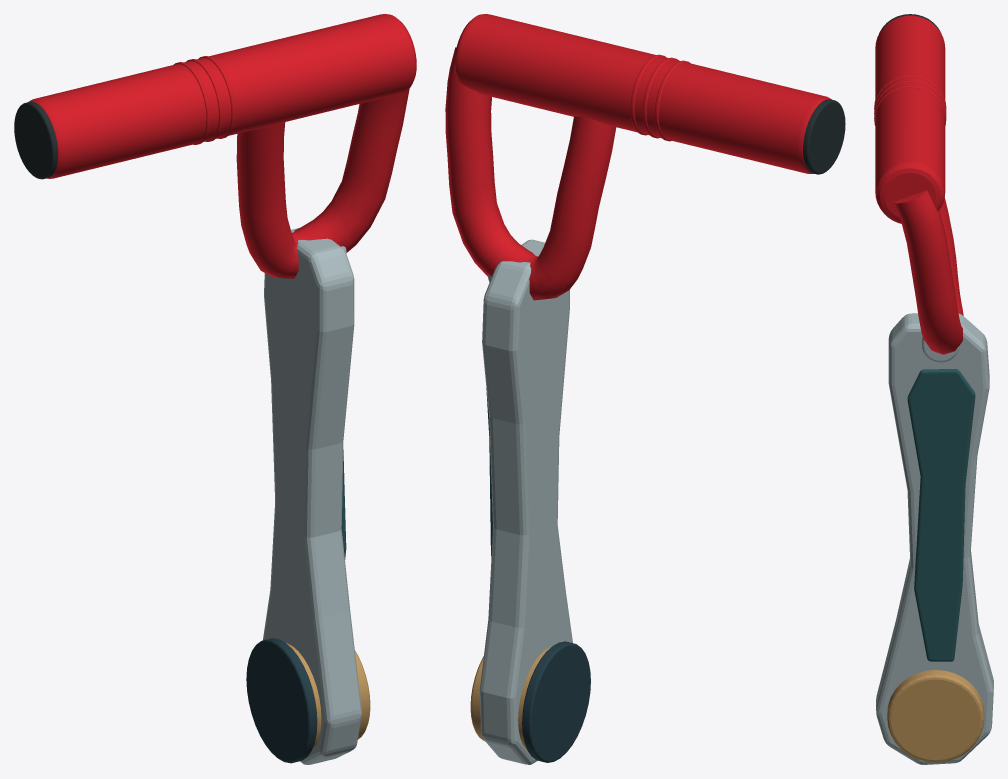
File: SM_Mk2_EjectionHandle.fbx
3 views of the same model, side by side, from view 1: azimuth 30°, elevation 25°; view 2: azimuth 150°, elevation 25°; view 3: azimuth 270°, elevation 25° (orthographic). The views are drawn at different scales.
Parts seen in each view (by area): view 1: SM_Mk2_EjectionHandle; view 2: SM_Mk2_EjectionHandle; view 3: SM_Mk2_EjectionHandle.
Boxes of the visible parts, left/top/right/bottom form: SM_Mk2_EjectionHandle: left=14, top=14, right=416, bottom=764; SM_Mk2_EjectionHandle: left=445, top=14, right=845, bottom=764; SM_Mk2_EjectionHandle: left=874, top=14, right=993, bottom=764.
Bounding box in the file's own units: 9.18 × 2.93 × 16.9.
